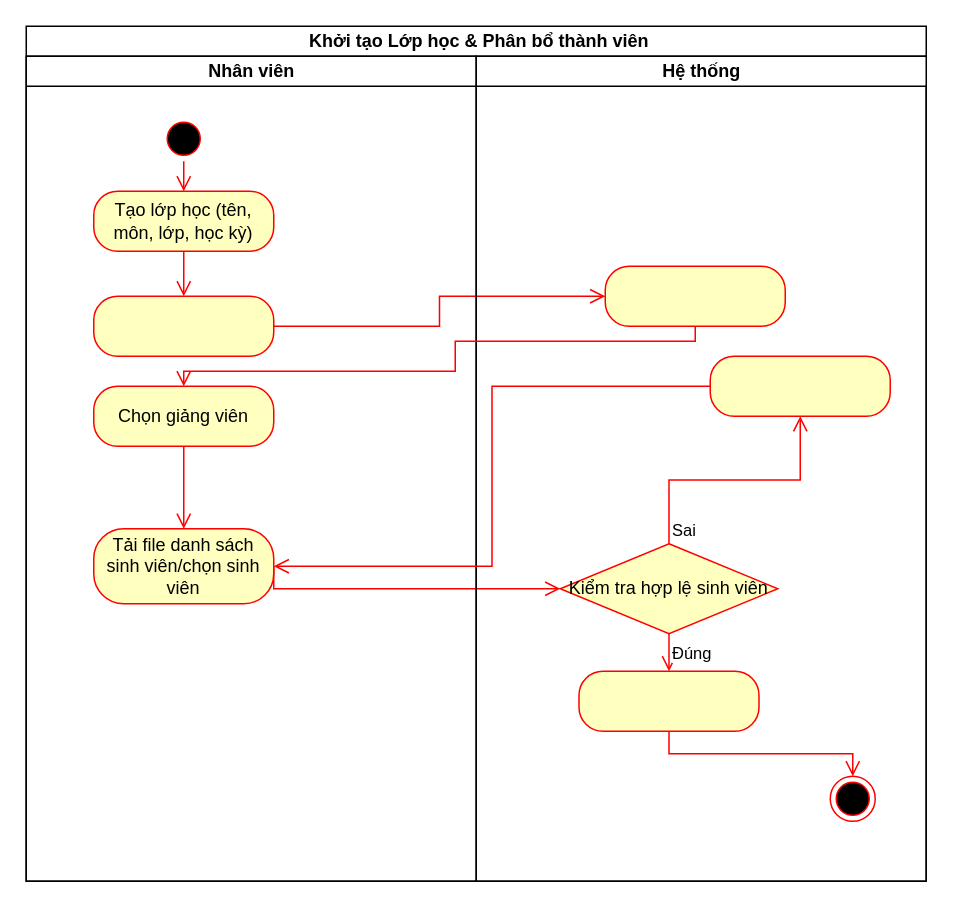
The diagram is 953 pixels wide and 908 high, and some of its shapes have lost their labels. The centre of each missing label's shape, as x and y in pixels:
"Kiểm tra và trả về danh sách giảng viên" belongs at [694,295].
"Thông báo lỗi" belongs at [799,385].
"Thông báo thành công" belongs at [668,700].
"Yêu cầu danh sách giảng viên" belongs at [183,325].
